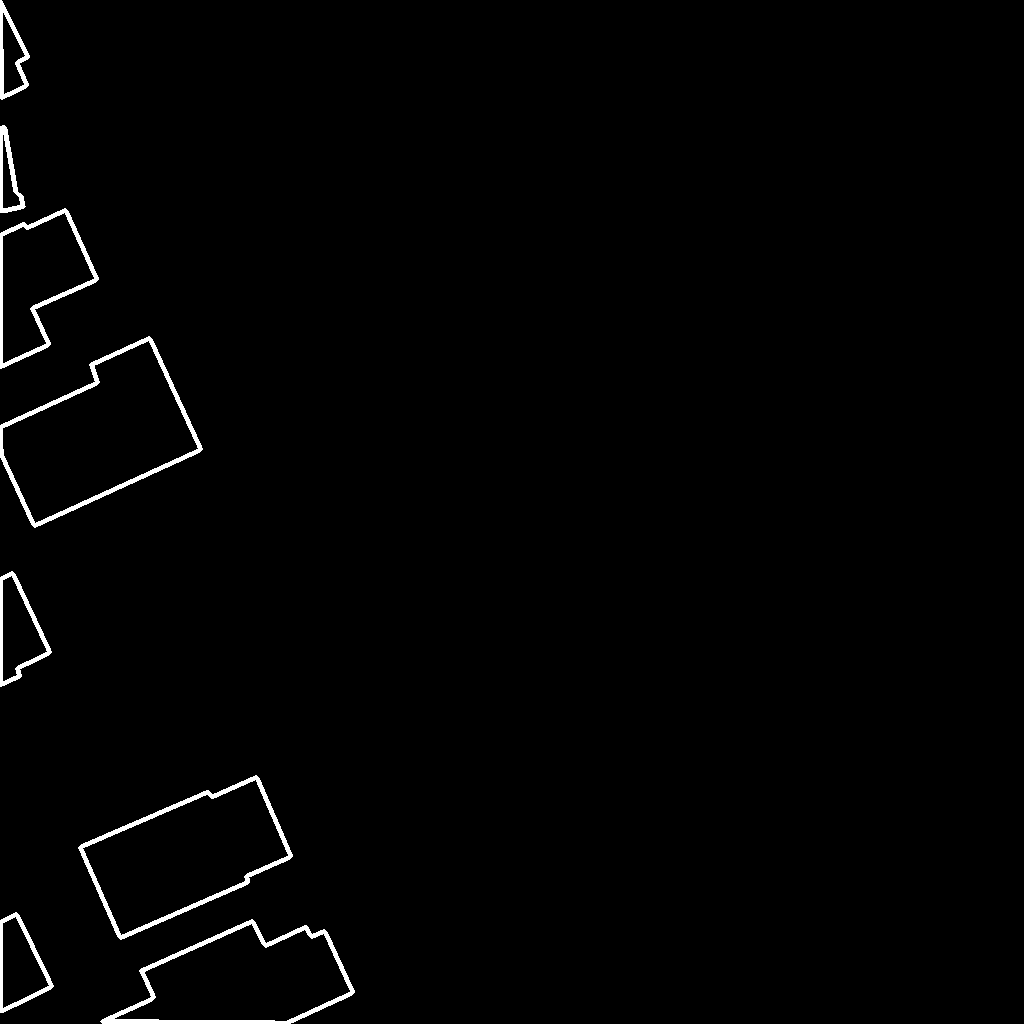building: (0, 338, 202, 527), (80, 777, 292, 939), (101, 921, 354, 1024), (0, 127, 98, 368), (0, 573, 51, 686), (0, 914, 53, 1012), (0, 0, 29, 99)
